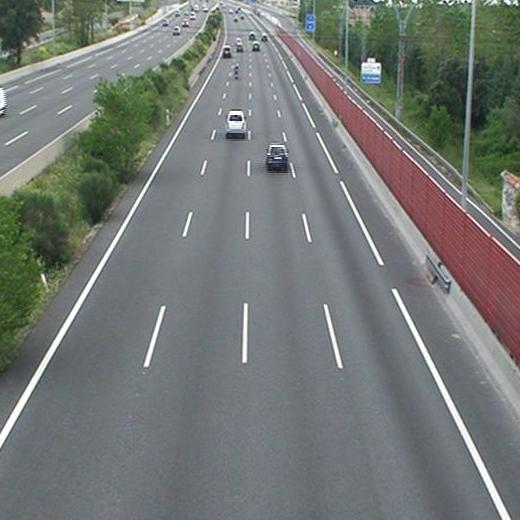car: (224, 111, 246, 135), (267, 146, 288, 169), (221, 46, 232, 56), (252, 42, 260, 51), (234, 43, 242, 50)
motorcycle: (232, 63, 240, 79)
